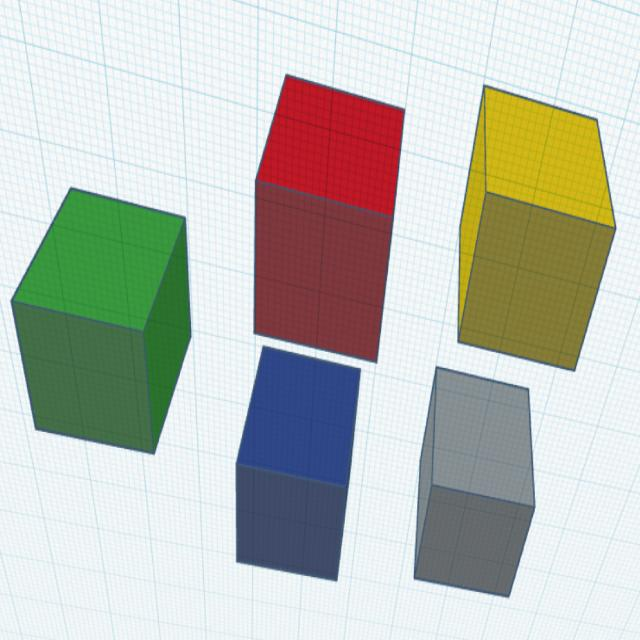cube: (8, 182, 195, 457), (455, 80, 618, 375), (252, 70, 408, 368), (234, 343, 365, 587), (412, 363, 536, 602)
